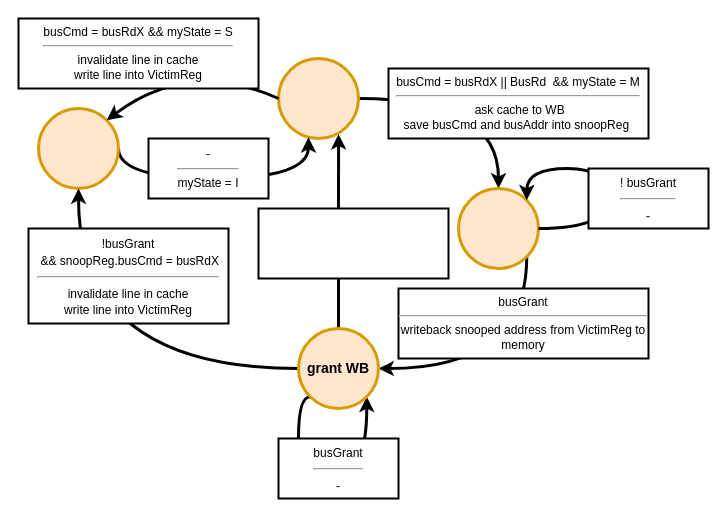
The diagram is 726 pixels wide and 516 high, and some of its shapes have lost their labels. The centre of each missing label's shape, as x and y in pixels:
"!busGrant && snoopReg.busCmd = busRd myState = S" belongs at pixel 353 243.
"idle" belongs at pixel 318 98.
"invalidate" belongs at pixel 78 148.
"wait WB" belongs at pixel 498 228.
